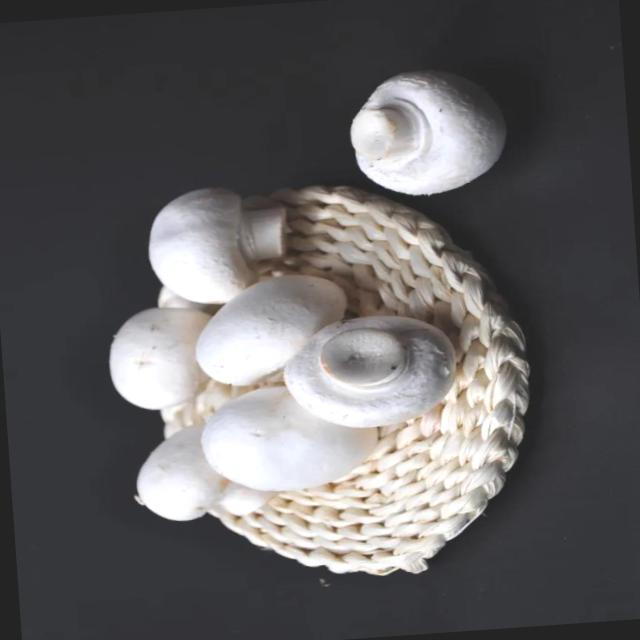Agaricus bisporus: (198, 378, 385, 494), (148, 176, 286, 309), (286, 311, 447, 421), (356, 74, 503, 193), (198, 270, 344, 380)
